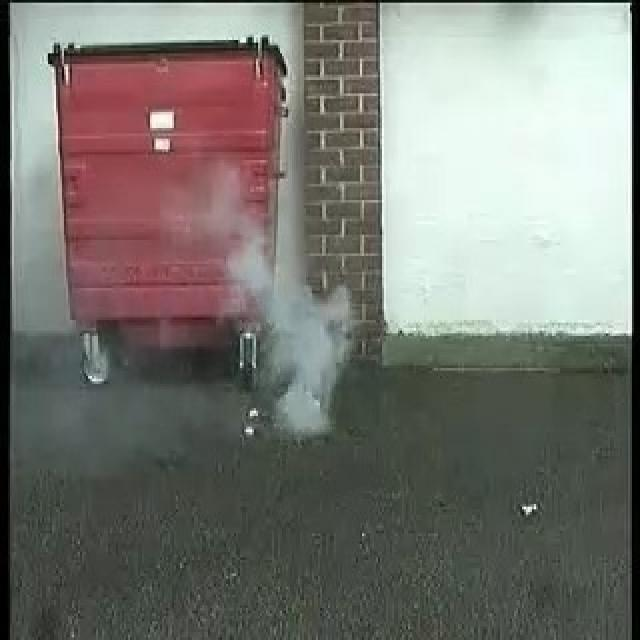smoke: (222, 228, 348, 439)
